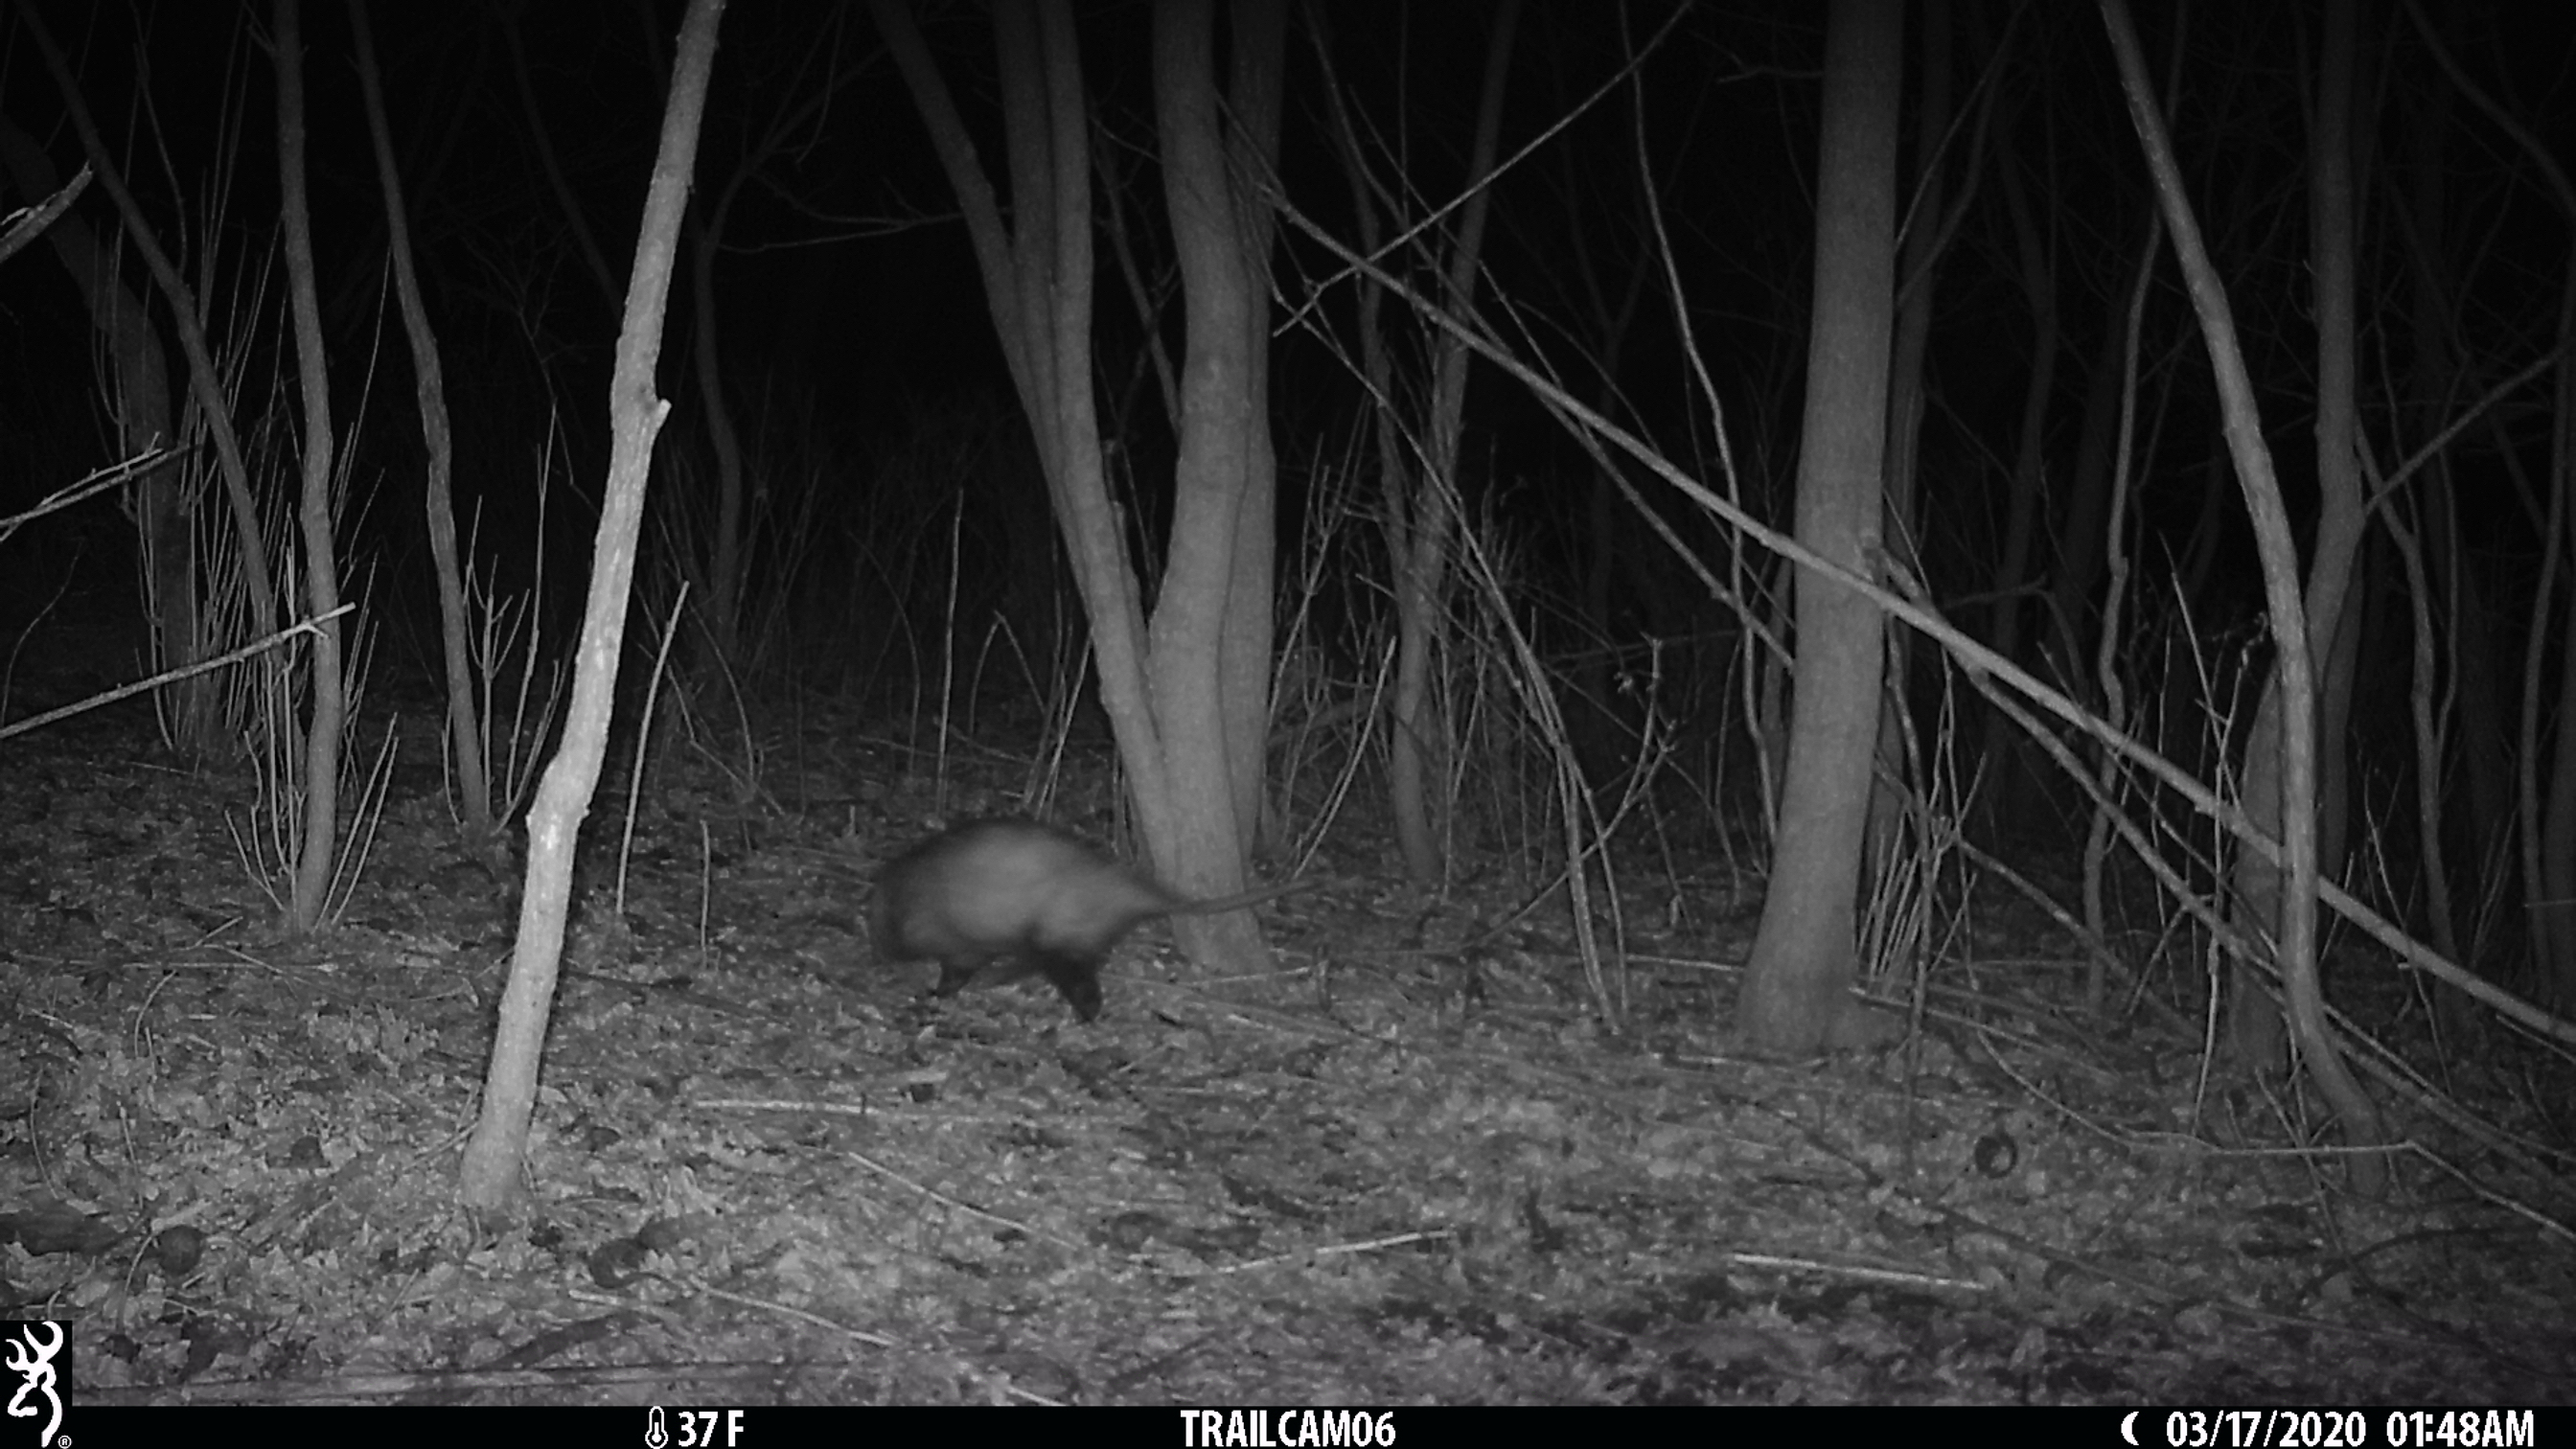Possum: (872, 816, 1332, 1017)
